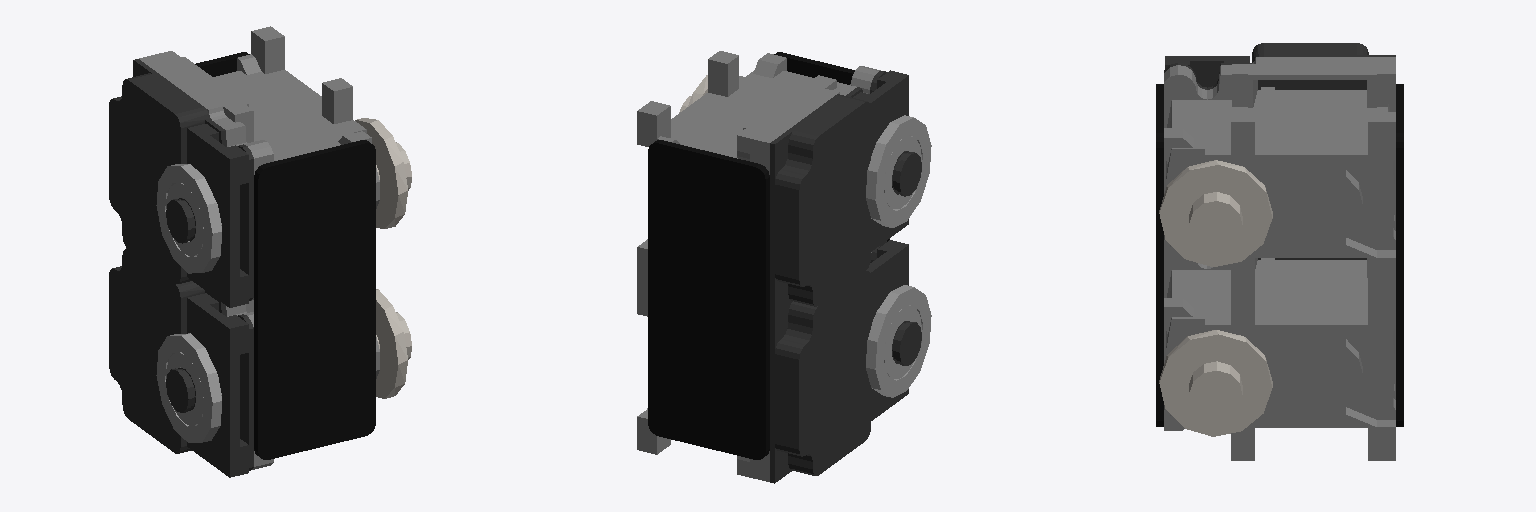
The model's file is Knee_1__1__1_mesh.obj.
The picture shows the model from 3 angles: view 1: azimuth 30°, elevation 25°; view 2: azimuth 150°, elevation 25°; view 3: azimuth 270°, elevation 25°; orthographic projection.
Parts seen in each view (by area): view 1: Body31, Body36, Body27, Body38, Body24, Body28, Body29, Body26, Body23, Body35, Body25, Body41 (+2 smaller); view 2: Body32, Body27, Body38, Body36, Body24, Body28, Body26, Body29, Body30, Body31, Body41, Body25; view 3: Body36, Body30, Body23, Body35, Body27, Body32, Body31, Body24.
Part boxes in pixels (x1,y1,x2,y2): Body31: (254, 140, 375, 459); Body36: (139, 26, 379, 300); Body27: (109, 59, 253, 300); Body38: (109, 248, 253, 470); Body24: (166, 124, 248, 307); Body28: (166, 293, 248, 477); Body29: (156, 333, 221, 442); Body26: (156, 164, 221, 273); Body23: (355, 118, 411, 228); Body35: (376, 289, 411, 398); Body25: (166, 183, 203, 256); Body41: (166, 352, 203, 425); Body32: (648, 140, 769, 459); Body27: (770, 71, 886, 313); Body38: (770, 241, 886, 483); Body36: (637, 51, 880, 282); Body24: (853, 70, 921, 251); Body28: (866, 240, 921, 420); Body26: (866, 115, 931, 227); Body29: (866, 285, 931, 397); Body30: (637, 252, 871, 481); Body31: (774, 52, 889, 241); Body41: (884, 305, 921, 378); Body25: (884, 136, 921, 208); Body36: (1164, 57, 1395, 291); Body30: (1164, 258, 1395, 460); Body23: (1159, 160, 1272, 266); Body35: (1159, 330, 1272, 436); Body27: (1164, 43, 1395, 89); Body32: (1396, 84, 1403, 426); Body31: (1156, 84, 1163, 426); Body24: (1165, 56, 1249, 87).
Bounding box in the file's own units: 0.0451 × 0.066 × 0.0438.